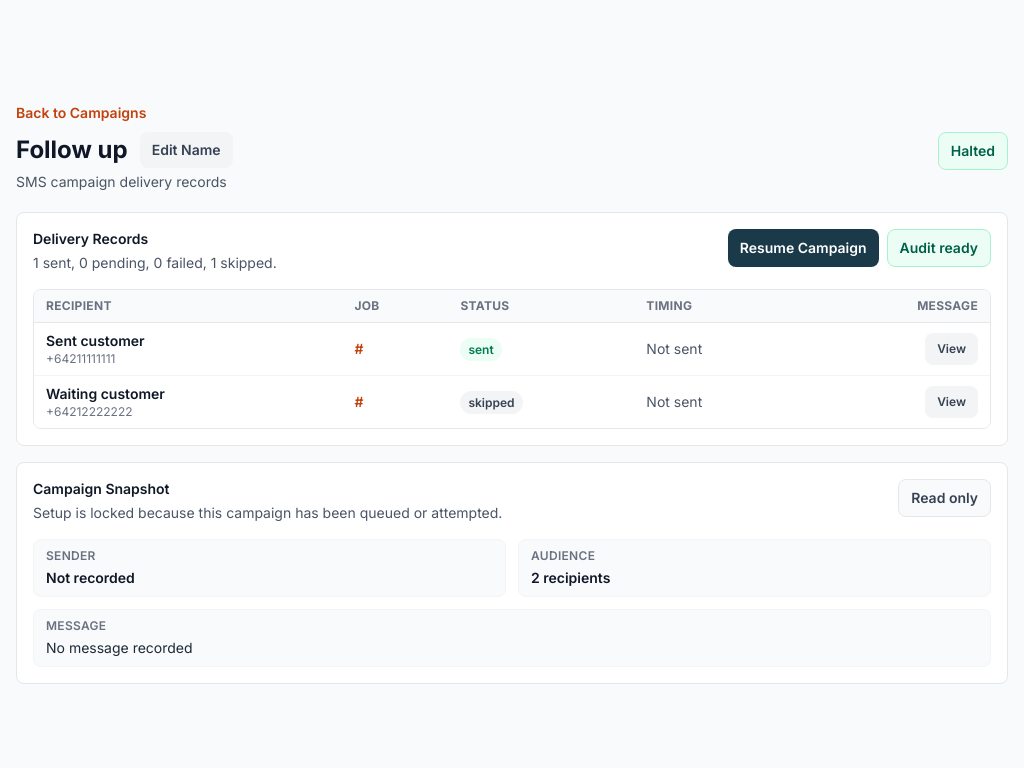
Scenario: confirms resume and updates delivery counts while preserving sent recipients
Click the button "Resume Campaign": (803, 248) [728,229,879,267]
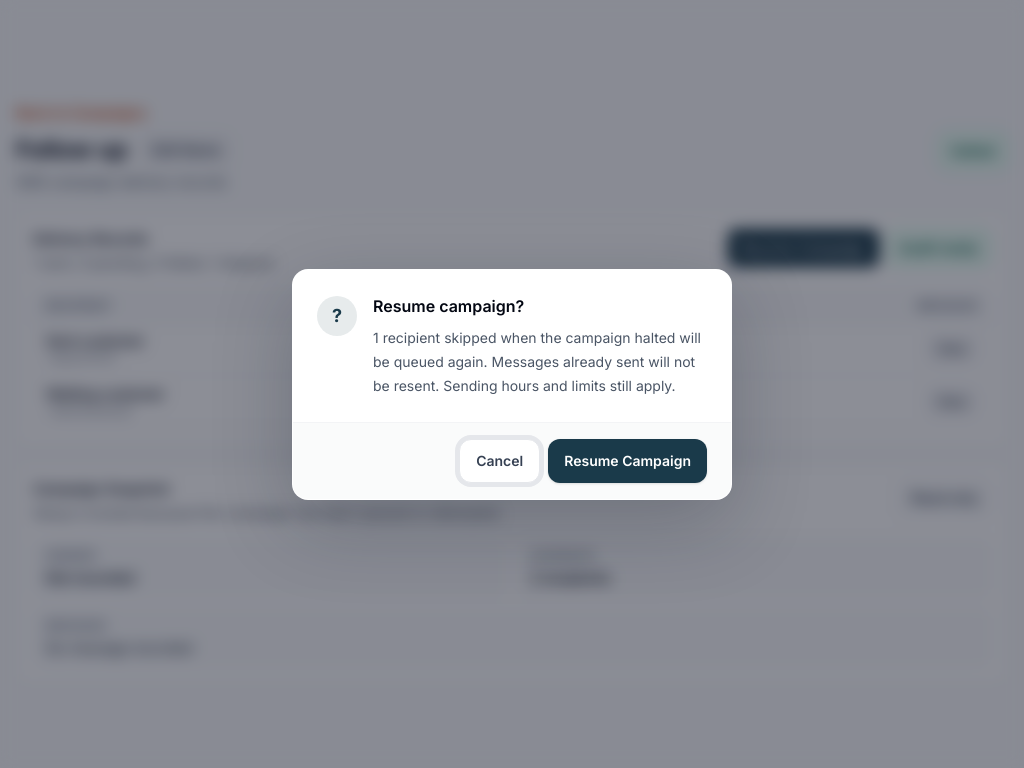
Expected: the text "Messages already sent will not be resent" is shown, [373,328,701,394]
Click the button "Resume Campaign": (628, 460) [548,438,707,482]
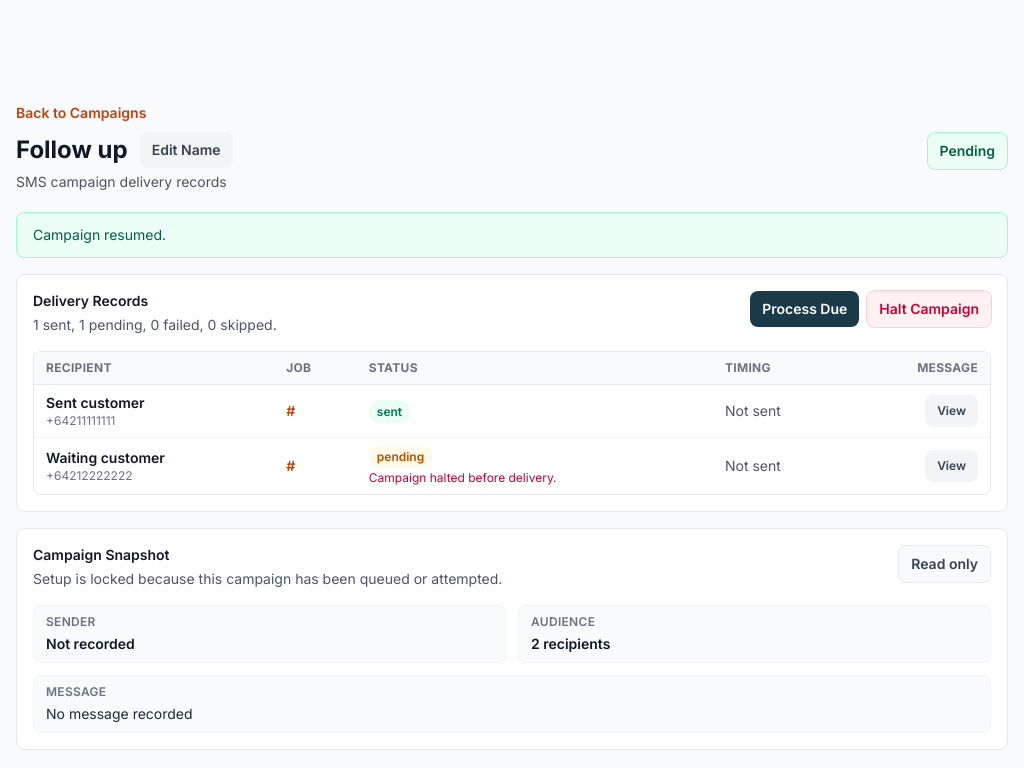
Expected: the text "Campaign resumed." is shown, [16,212,1008,258]
Expected: the text "1 sent, 1 pending, 0 failed, 0 skipped." is shown, [33,315,277,335]
Expected: the heading "Resume campaign" is gone
